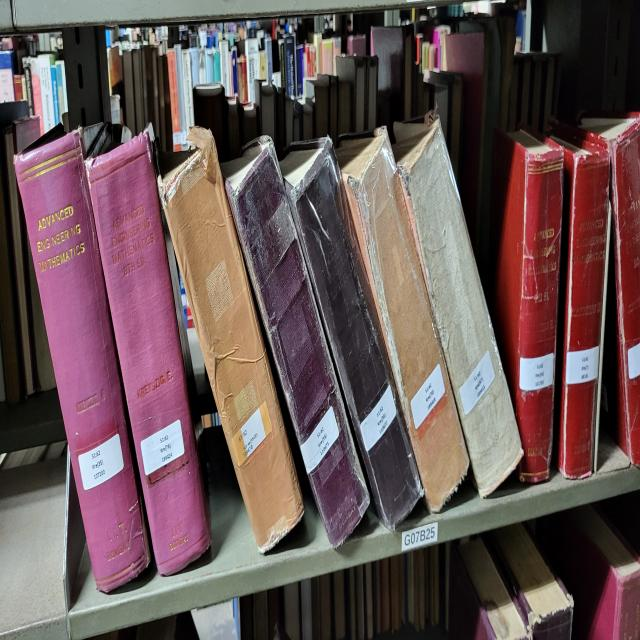Book: (15, 130, 150, 593), (158, 124, 304, 552), (226, 138, 369, 547), (280, 138, 422, 530), (86, 130, 211, 574), (336, 127, 469, 511), (394, 116, 522, 498), (491, 127, 564, 482), (549, 122, 610, 479), (579, 114, 640, 465)
Label: (231, 403, 272, 468), (300, 406, 339, 473), (79, 433, 124, 490), (141, 419, 185, 476), (360, 384, 396, 452), (410, 363, 445, 430), (460, 352, 495, 414), (519, 352, 554, 390), (566, 346, 599, 384), (628, 344, 640, 379)
